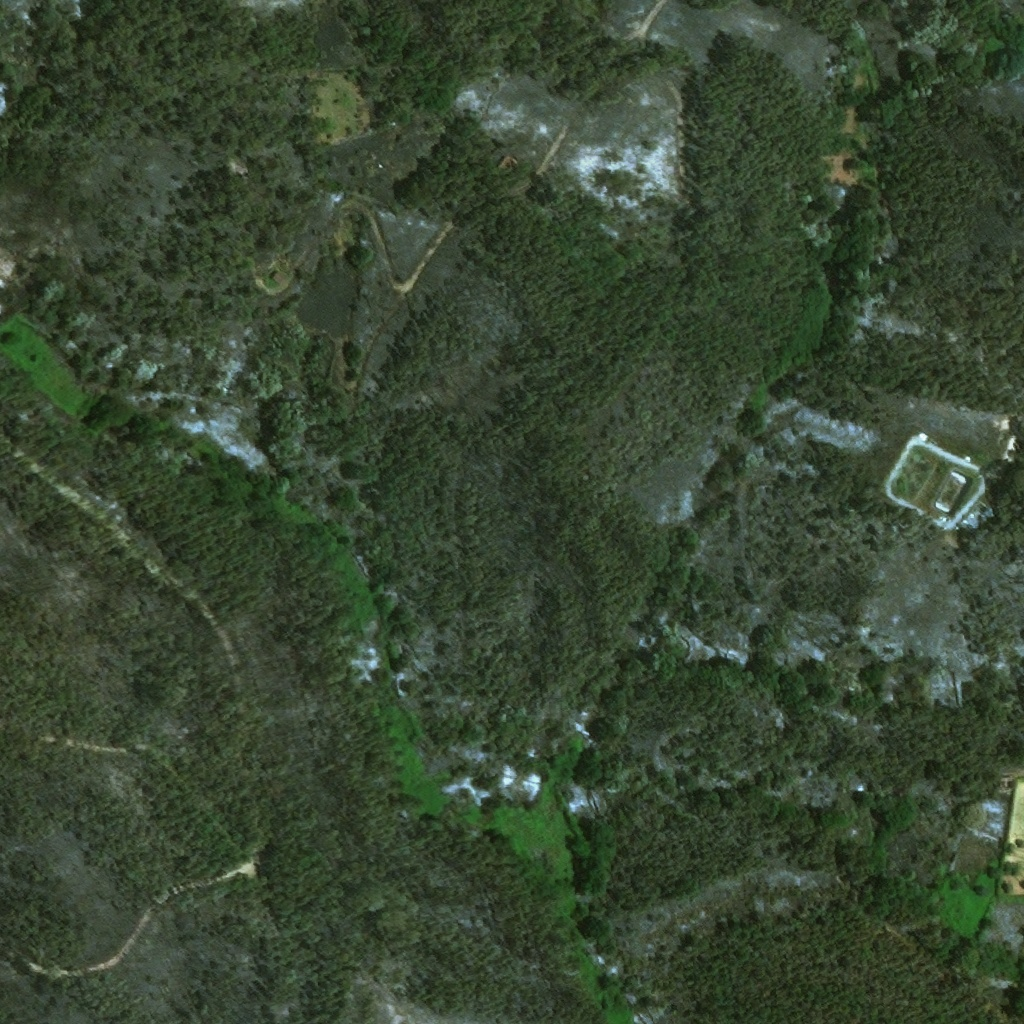3 destroyed: (977, 494, 994, 511)
